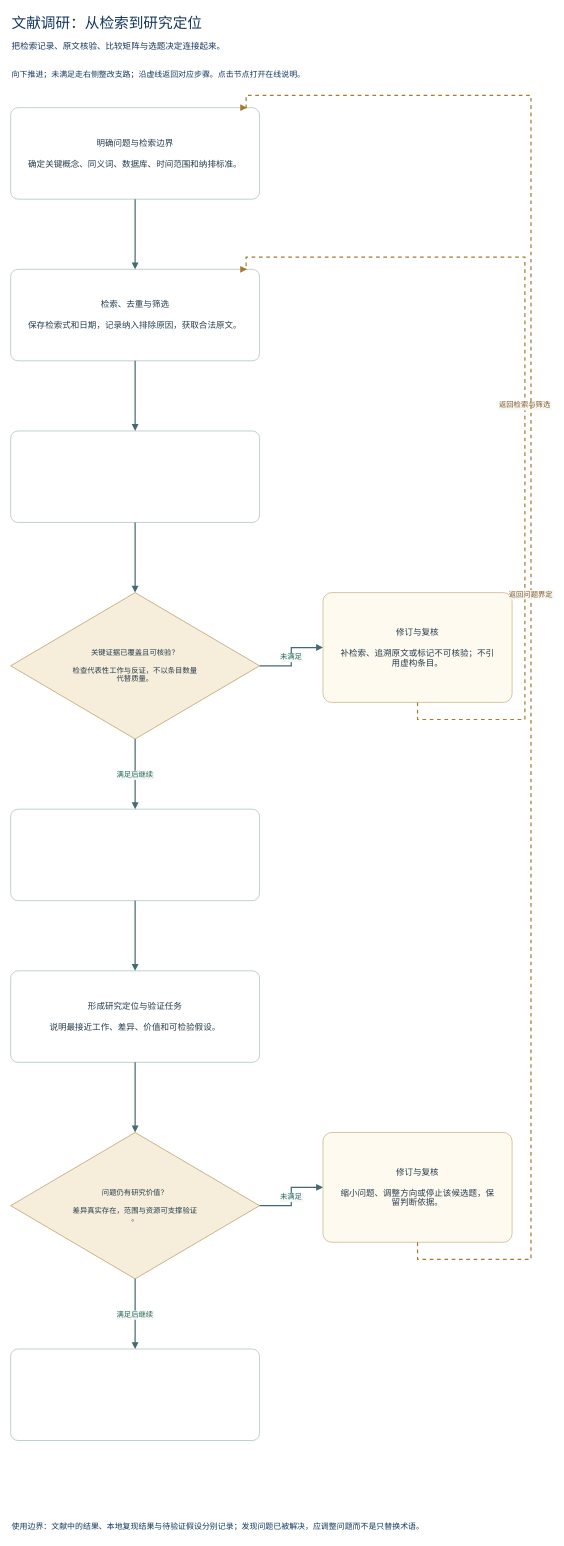
This 564x1546 diagram has some shape labels left out. Each missing label, with the centre of its shape:
形成证据矩阵与综述 围绕问题和方法组织比较，标明已读、未得全文和待核项 。: the point at 135,855
持续更新文献库 保存文献元数据、阅读笔记和定位变更依据。: the point at 135,1394
精读与原文核验 核对方法、数据、评价口径、局限与相反证据，追溯引用 。: the point at 135,476
